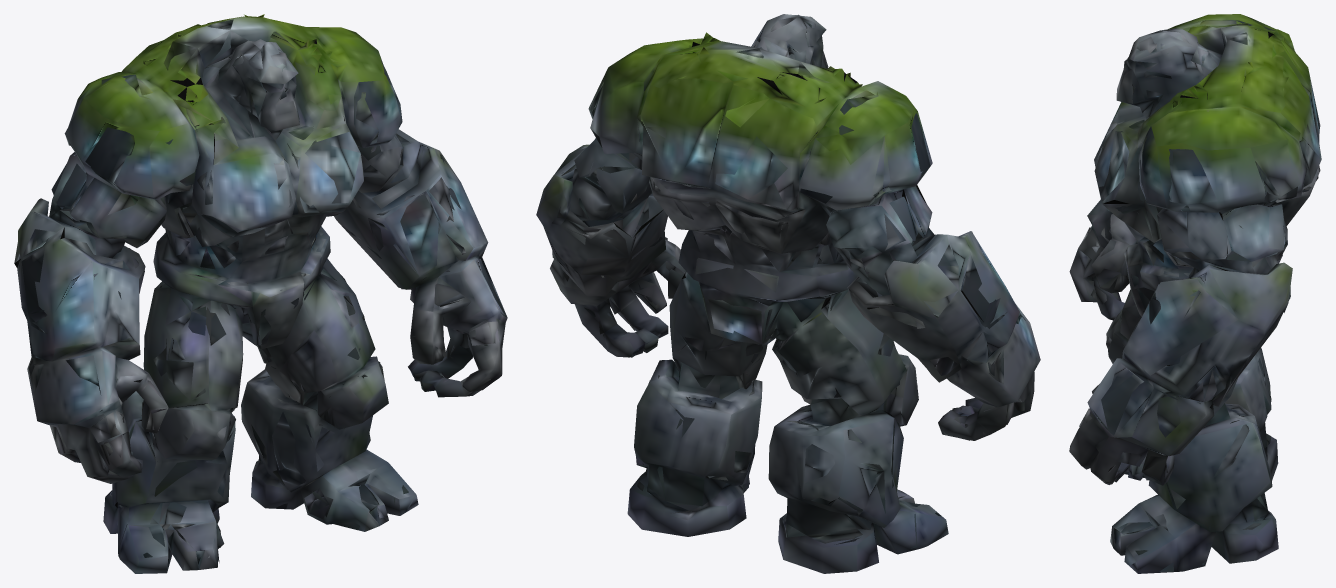
File: detail_7_lo.glb
The picture shows the model from 3 angles, left to right: view 1: azimuth 30°, elevation 25°; view 2: azimuth 150°, elevation 25°; view 3: azimuth 270°, elevation 25°; orthographic projection. The views are drawn at different scales.
Visible parts, largest first — view 1: Mesh_0.001; view 2: Mesh_0.001; view 3: Mesh_0.001.
Boxes of the visible parts, x1=… form: Mesh_0.001: x1=14, y1=14, x2=507, y2=573; Mesh_0.001: x1=536, y1=14, x2=1040, y2=573; Mesh_0.001: x1=1069, y1=14, x2=1321, y2=573.
Bounding box in the file's own units: 0.96 × 0.9926 × 0.477.
1 material, 1 textured.
